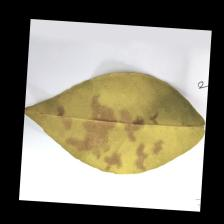black spot: (54, 93, 169, 168)
